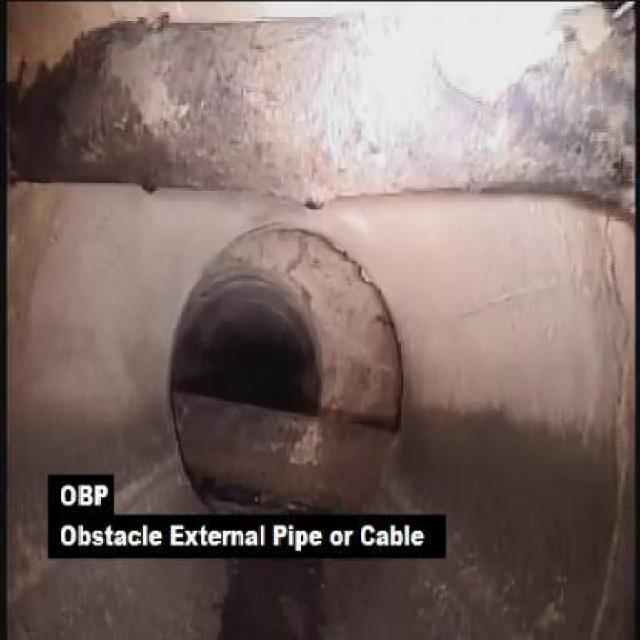Utility intrusion: (9, 2, 638, 249), (163, 385, 445, 520)
